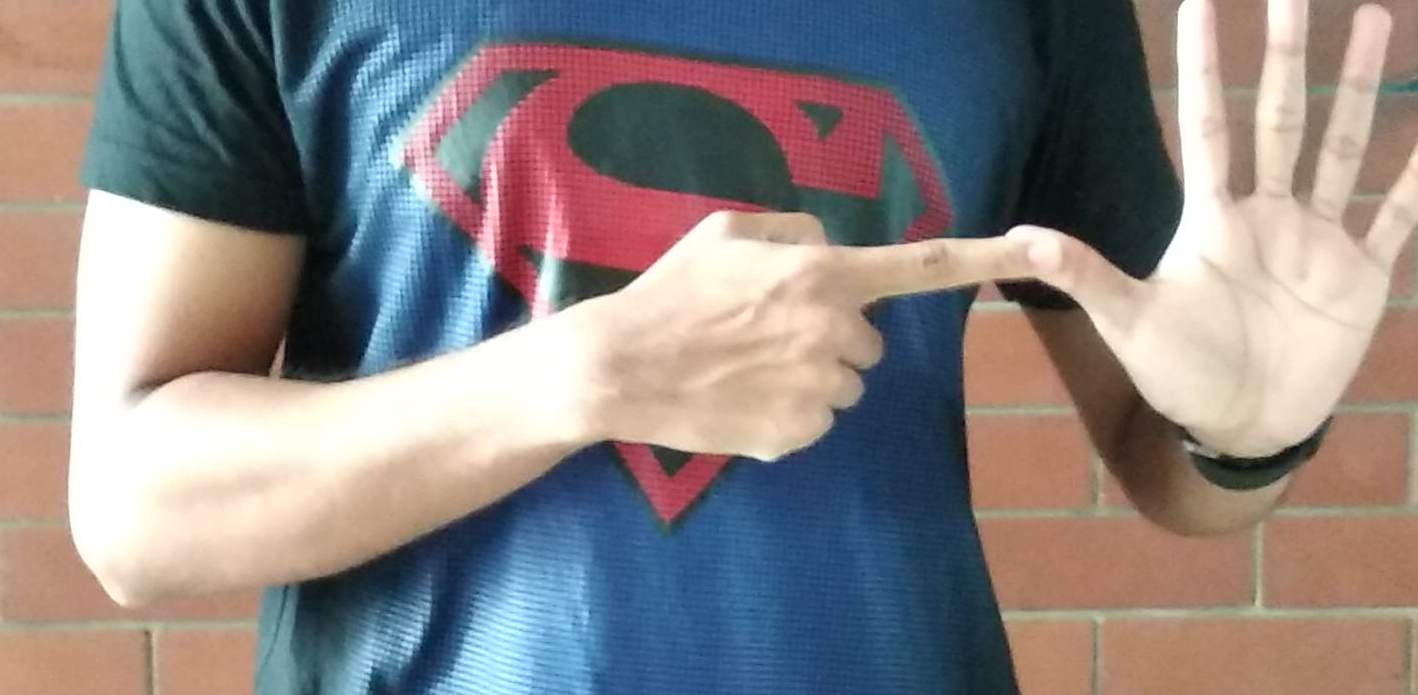a: (745, 15, 1378, 482)
